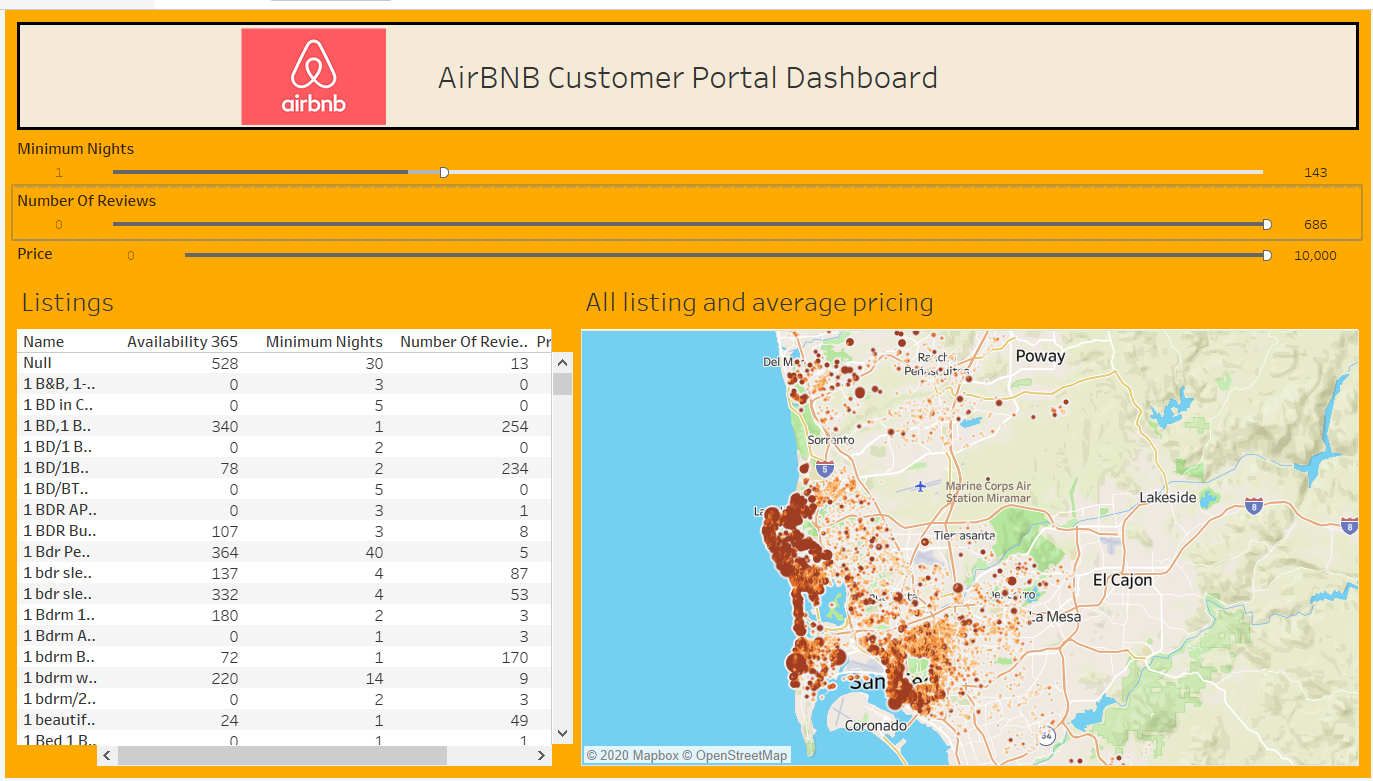

This screenshot's page, from the dashboard's own definition file:
{"tool":"tableau","page":{"name":"Customer Dashboard","canvas":[1366,768],"ordinal":0},"visuals":[{"type":"worksheet","box":[0,0,1366,768]},{"type":"worksheet","param":"horz","box":[8,8,1350,752]},{"type":"worksheet","param":"vert","box":[8,8,1350,752]},{"type":"worksheet","box":[8,8,1350,116]},{"type":"worksheet","param":"C:/Users/mitta/OneDrive/Pictures/airbnb.jpg","box":[236,18,175,97]},{"type":"worksheet","param":"vert","box":[8,124,1350,142]},{"type":"worksheet","title":"Listings","mark":"Automatic","rows":["name"],"param":"[federated.10iiqd91hu3evr1gxbqex0ho3r8u].[sum:minimum_nights:qk]","box":[8,124,1350,52]},{"type":"worksheet","title":"Listings","mark":"Automatic","rows":["name"],"param":"[federated.10iiqd91hu3evr1gxbqex0ho3r8u].[sum:number_of_reviews:qk]","box":[8,176,1350,53]},{"type":"worksheet","title":"Listings","mark":"Automatic","rows":["name"],"param":"[federated.10iiqd91hu3evr1gxbqex0ho3r8u].[sum:price:qk]","box":[8,229,1350,37]},{"type":"worksheet","param":"horz","box":[8,266,1350,494]},{"type":"worksheet","box":[8,266,1350,494]},{"type":"worksheet","title":"Listings","mark":"Automatic","rows":["name"],"box":[8,266,564,494]},{"type":"worksheet","title":"All listing and average pricing","mark":"Automatic","rows":["latitude"],"cols":["longitude"],"box":[572,266,786,494]}]}

Visuals, with their boxes in screenshot pixels (x1, y1, x2, y2), scaled from the page's 1366x768 canvas onto the 1373x781 screenshot:
worksheet: crop(0, 0, 1372, 780)
worksheet: crop(8, 8, 1365, 773)
worksheet: crop(8, 8, 1365, 773)
worksheet: crop(8, 8, 1365, 126)
worksheet: crop(237, 18, 413, 117)
worksheet: crop(8, 126, 1365, 271)
"Listings" worksheet: crop(8, 126, 1365, 179)
"Listings" worksheet: crop(8, 179, 1365, 233)
"Listings" worksheet: crop(8, 233, 1365, 271)
worksheet: crop(8, 271, 1365, 773)
worksheet: crop(8, 271, 1365, 773)
"Listings" worksheet: crop(8, 271, 575, 773)
"All listing and average pricing" worksheet: crop(575, 271, 1365, 773)
